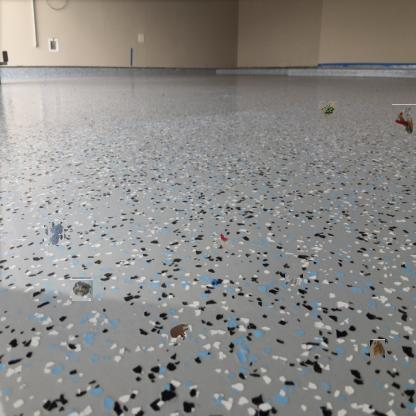dirty: (392, 104, 416, 135), (71, 278, 92, 300), (318, 101, 338, 119), (369, 340, 386, 357), (219, 232, 233, 252), (285, 274, 303, 286)
liquid: (46, 223, 66, 243), (168, 322, 188, 342)
